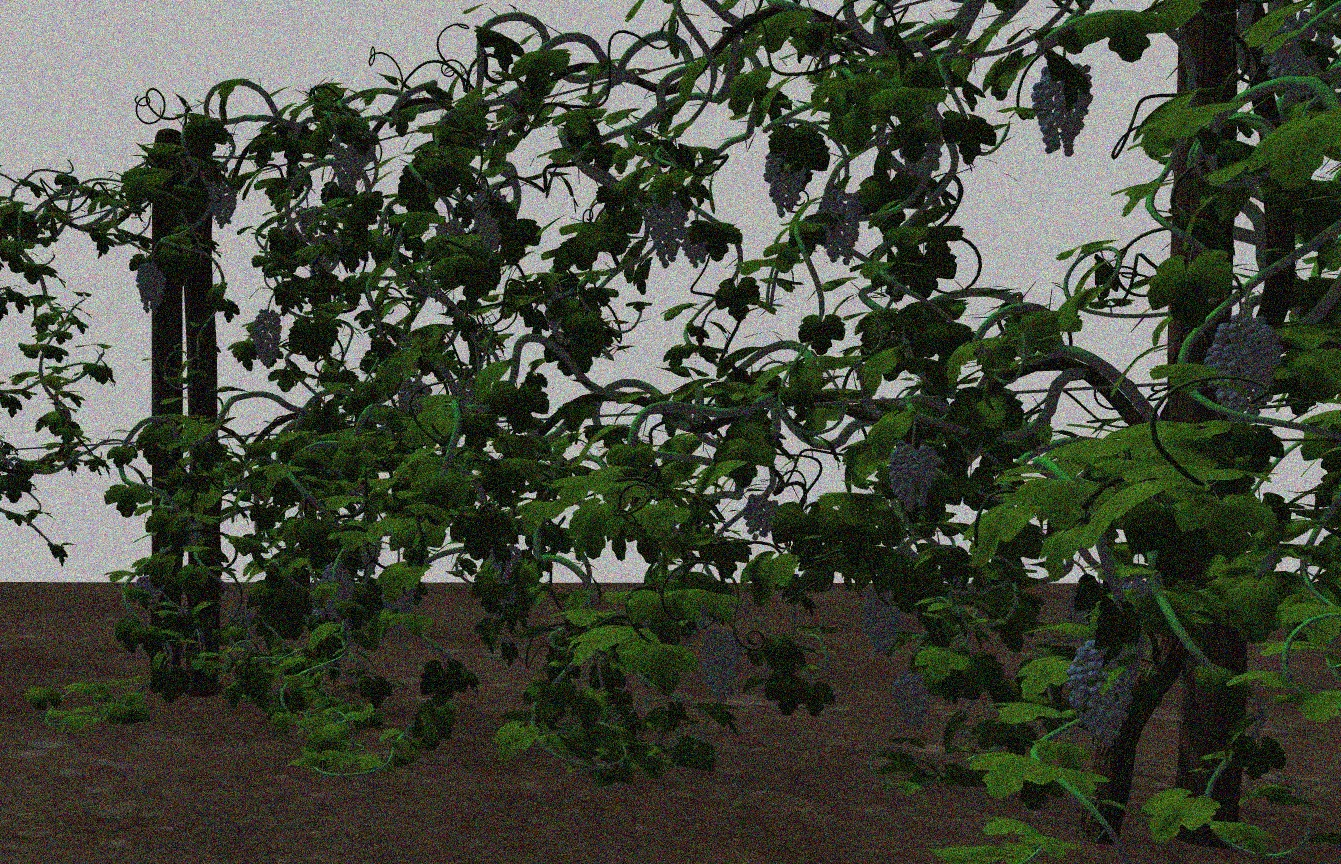grape: (1065, 637, 1139, 749), (1204, 315, 1282, 412), (1032, 57, 1093, 158), (884, 444, 938, 515), (694, 628, 742, 703), (816, 189, 863, 265), (643, 192, 687, 266), (764, 143, 807, 217), (862, 584, 902, 656), (891, 667, 933, 726), (332, 137, 370, 197), (468, 192, 505, 249), (248, 309, 282, 369), (319, 562, 353, 620), (740, 495, 777, 544), (207, 179, 237, 230), (137, 264, 166, 314)
